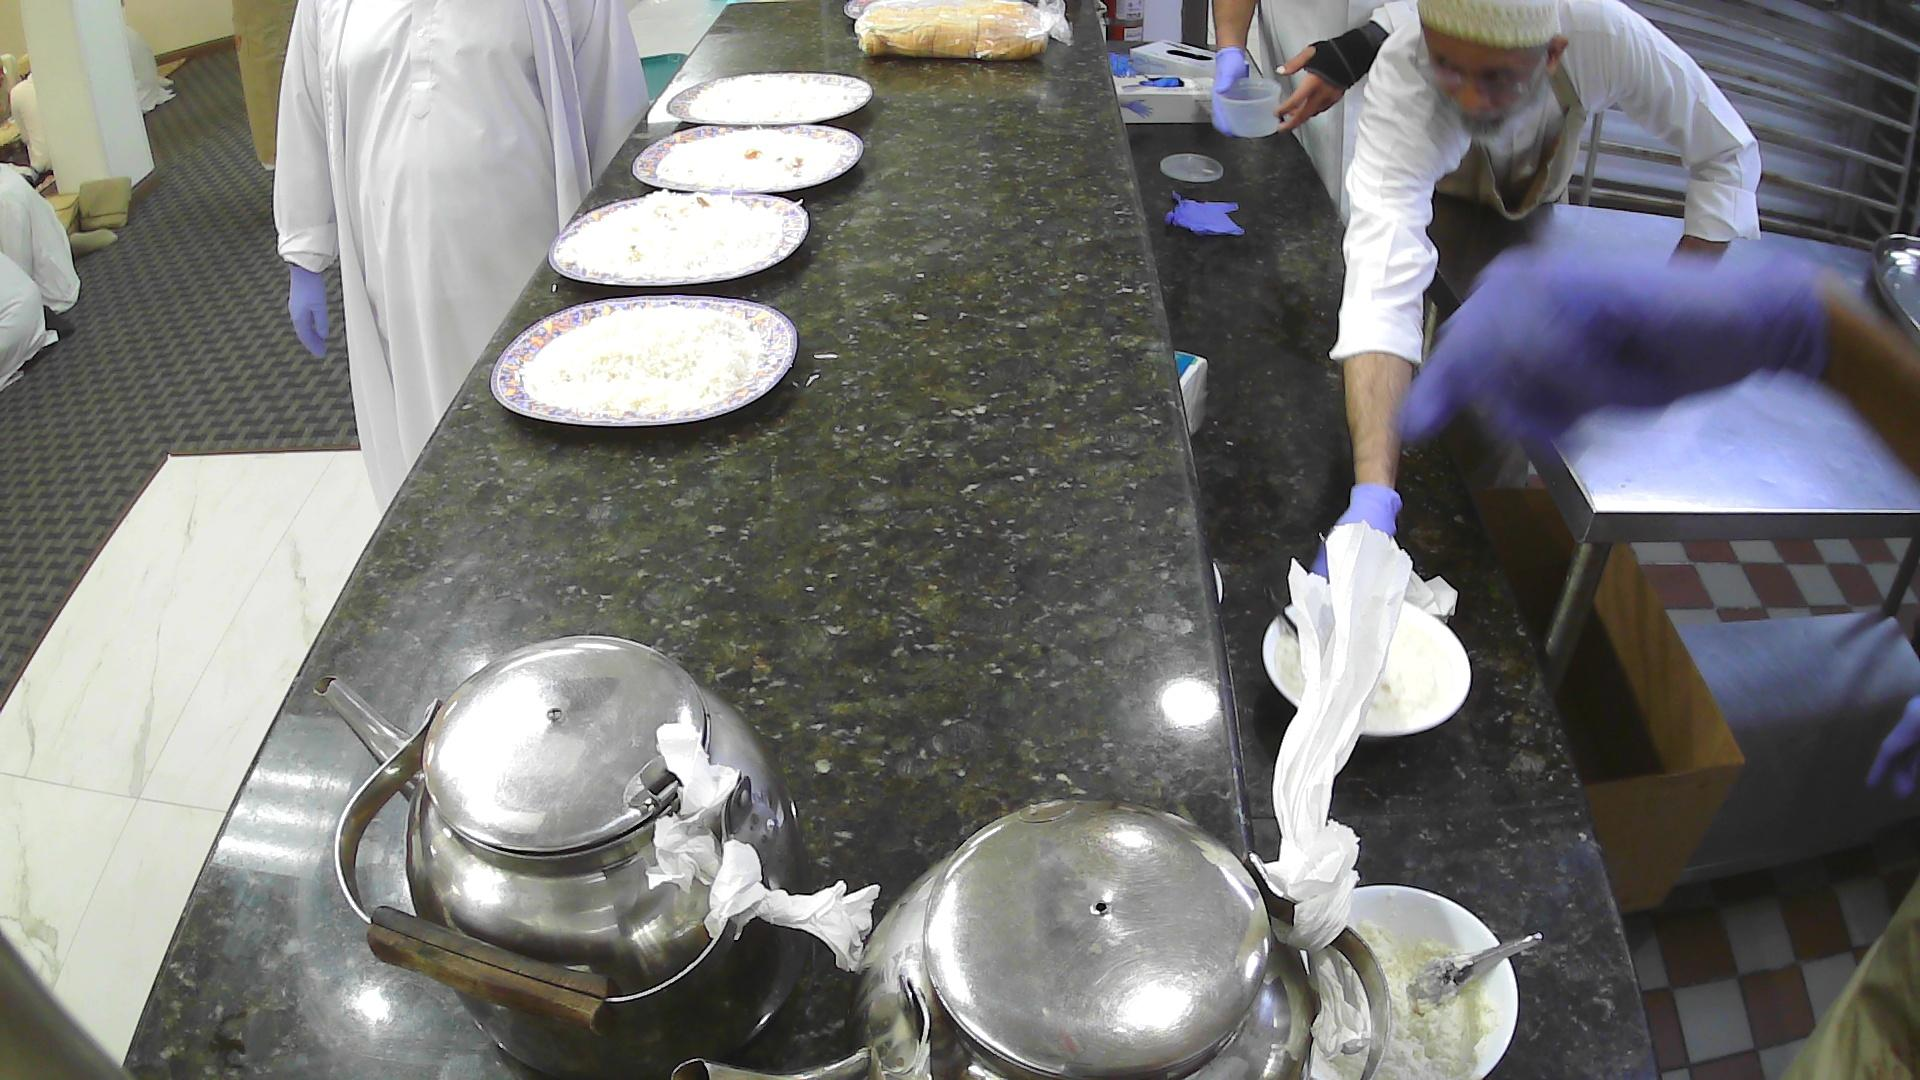thaal: (1866, 229, 1920, 359)
